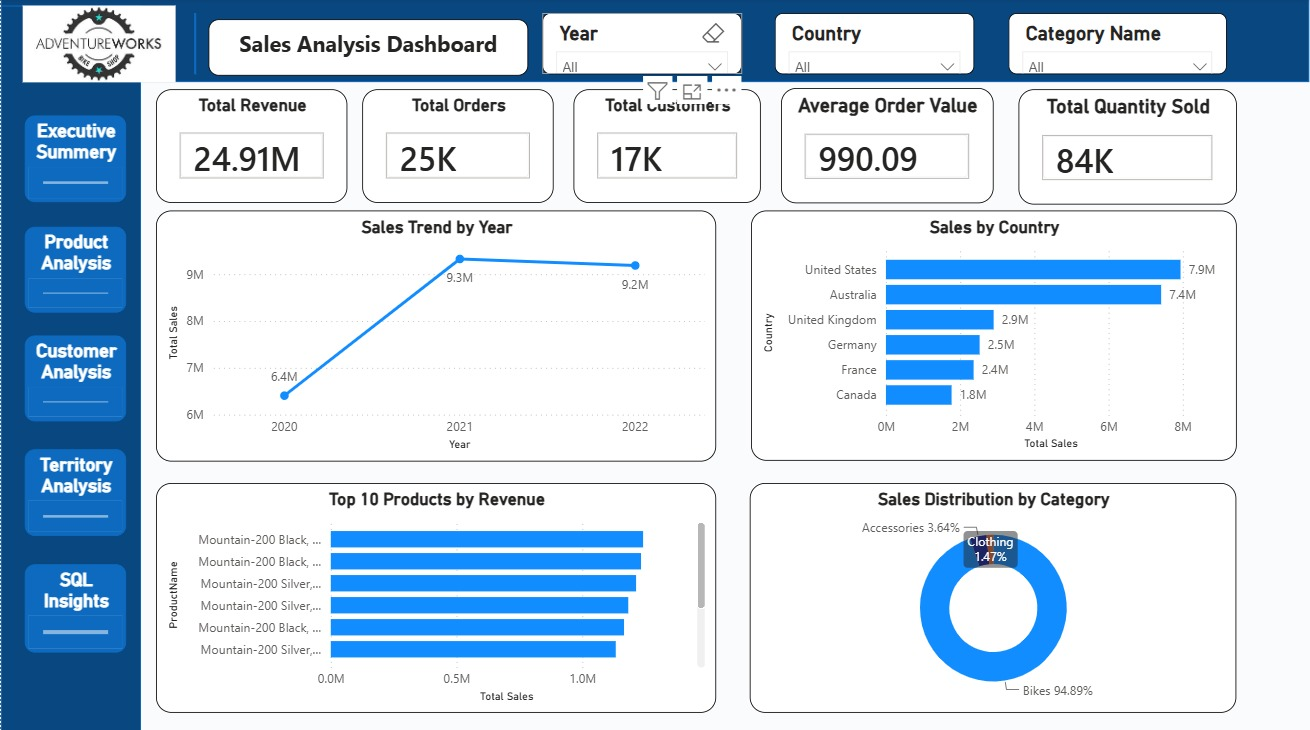

The dashboard page shown, as its layout file describes it:
{"tool":"powerbi","page":{"name":"Executive Summery","canvas":[1280,720],"ordinal":0},"visuals":[{"type":"cardVisual","title":"Total Revenue","fields":{"Data":["factsales.Total Sales"]},"box":[151.5,89.5,187.6,111.1],"z":0},{"type":"cardVisual","title":"Total Orders","fields":{"Data":["factsales.Total Orders"]},"box":[353.5,89.5,187.6,111.1],"z":1000},{"type":"cardVisual","title":"Total Customers","fields":{"Data":["factsales.Total Customers"]},"box":[559.8,89.5,183.2,111.1],"z":2000},{"type":"cardVisual","title":"Average Order Value","fields":{"Data":["factsales.Average Order Value"]},"box":[763.2,88,207.8,112.5],"z":3000},{"type":"cardVisual","title":"Total Quantity Sold","fields":{"Data":["factsales.Total Quantity"]},"box":[995.5,89.5,213.5,112.5],"z":4000},{"type":"lineChart","title":"Sales Trend by Year","fields":{"Category":["dimdate.Year"],"Y":["factsales.Total Sales"]},"box":[151.5,207.8,548.2,245.3],"z":5000},{"type":"shape","box":[0,0,1279.7,82.2],"z":6000},{"type":"clusteredBarChart","title":"Sales by Country","fields":{"Category":["dimterritory.Country"],"Y":["factsales.Total Sales"]},"box":[733.3,208.3,475,245],"z":7000},{"type":"donutChart","title":"Sales Distribution by Category","fields":{"Category":["dimproductcategory.CategoryName"],"Y":["factsales.Total Sales"]},"box":[732.9,474.7,476.1,225.1],"z":8000},{"type":"clusteredBarChart","title":"Top 10 Products by Revenue","fields":{"Category":["dimproduct.ProductName"],"Y":["factsales.Total Sales"]},"box":[151.5,474.7,548.2,225.1],"z":9000},{"type":"slicer","fields":{"Values":["dimdate.Year"]},"box":[530,15,195,60],"z":10000},{"type":"slicer","fields":{"Values":["dimterritory.Country"]},"box":[756.7,15,195,60],"z":11000},{"type":"slicer","fields":{"Values":["dimproductcategory.CategoryName"]},"box":[985,15,213.3,60],"z":12000},{"type":"textbox","box":[203.4,20.2,313.1,54.8],"z":13000},{"type":"shape","box":[0,7.2,137.1,712.7],"z":14000},{"type":"image","box":[1.4,7.2,189,75],"z":15000},{"type":"shape","box":[151.7,15,76.7,60],"z":16000},{"type":"actionButton","title":"Executive Summery","box":[23.1,115.4,99.6,85.1],"z":17000},{"type":"actionButton","title":"Product Analysis","box":[23.1,223.6,99.6,83.7],"z":18000},{"type":"actionButton","title":"Customer Analysis","box":[23.1,330.4,99.6,83.7],"z":19000},{"type":"actionButton","title":"Territory Analysis","box":[23.1,441.5,99.6,85.1],"z":20000},{"type":"actionButton","title":"SQL Insights","box":[23.1,554,99.6,86.6],"z":21000}]}

Visuals, with their boxes in screenshot pixels (x1, y1, x2, y2), scaled from the page's 1280x720 canvas onto the 1310x730 screenshot:
"Total Revenue" cardVisual: [155,91,347,203]
"Total Orders" cardVisual: [362,91,554,203]
"Total Customers" cardVisual: [573,91,760,203]
"Average Order Value" cardVisual: [781,89,994,203]
"Total Quantity Sold" cardVisual: [1019,91,1237,205]
"Sales Trend by Year" lineChart: [155,211,716,459]
shape: [0,0,1309,83]
"Sales by Country" clusteredBarChart: [750,211,1237,460]
"Sales Distribution by Category" donutChart: [750,481,1237,710]
"Top 10 Products by Revenue" clusteredBarChart: [155,481,716,710]
slicer - dimdate.Year: [542,15,742,76]
slicer - dimterritory.Country: [774,15,974,76]
slicer - dimproductcategory.CategoryName: [1008,15,1226,76]
textbox: [208,20,529,76]
shape: [0,7,140,729]
image: [1,7,195,83]
shape: [155,15,234,76]
"Executive Summery" actionButton: [24,117,126,203]
"Product Analysis" actionButton: [24,227,126,312]
"Customer Analysis" actionButton: [24,335,126,420]
"Territory Analysis" actionButton: [24,448,126,534]
"SQL Insights" actionButton: [24,562,126,649]
